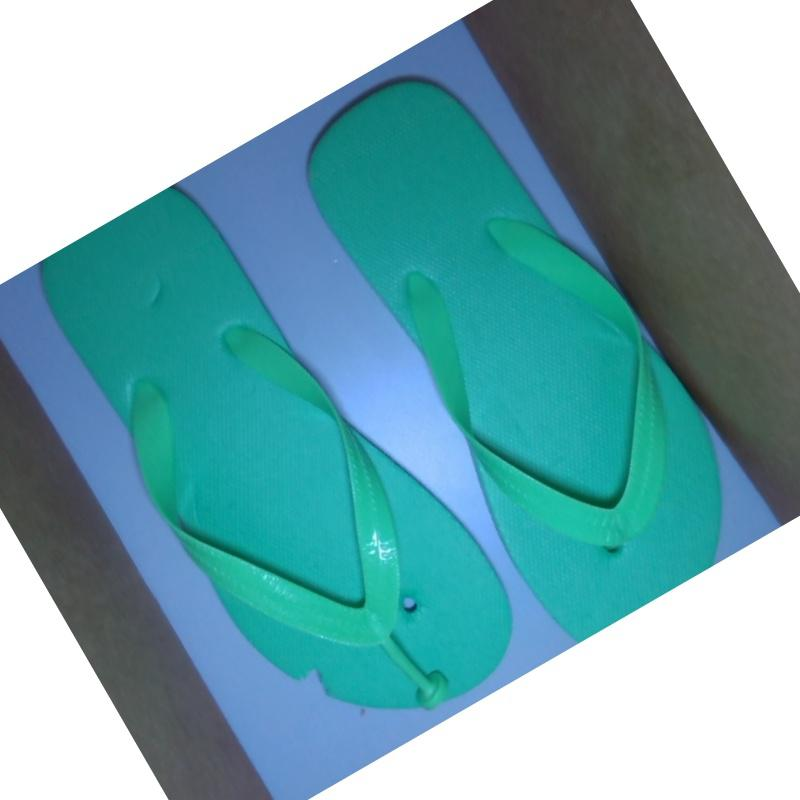chipped: (284, 654, 341, 706)
detached: (399, 659, 453, 715)
